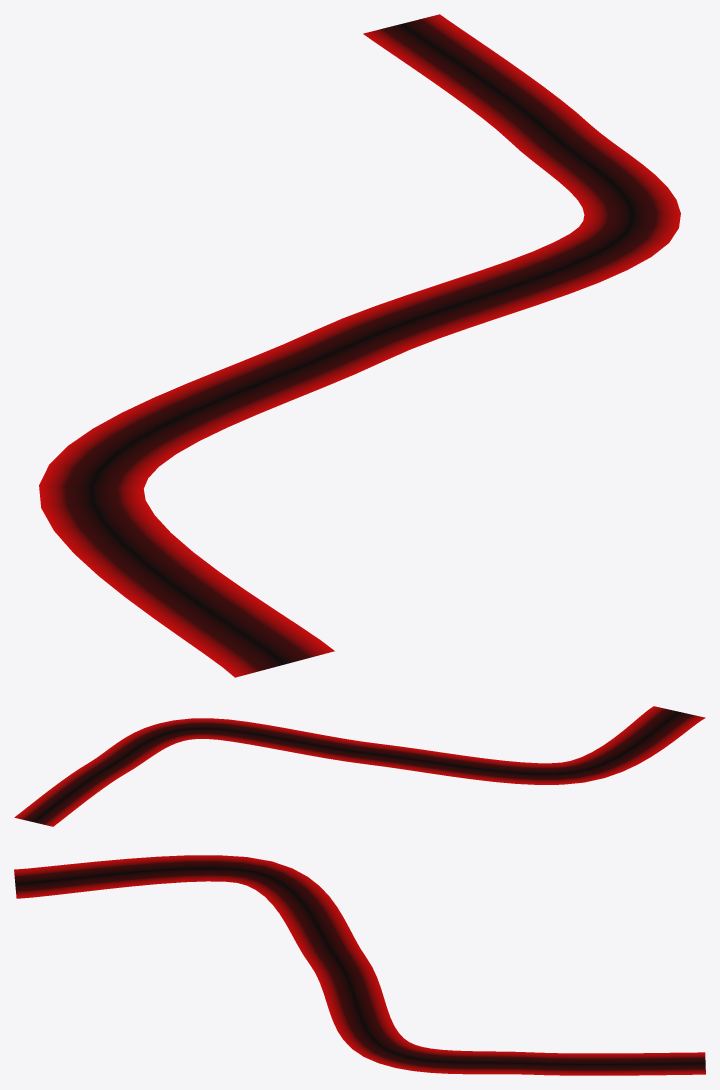
File: CoastalCliff_Entrance_Runoff.fbx
3 renders of one model, top to bottom at view 1: azimuth 30°, elevation 25°; view 2: azimuth 150°, elevation 25°; view 3: azimuth 270°, elevation 25°, orthographic. The views are drawn at different scales.
Parts seen in each view (by area): view 1: CoastalCliff_Entrance_Runoff; view 2: CoastalCliff_Entrance_Runoff; view 3: CoastalCliff_Entrance_Runoff.
Part boxes in pixels (x1=…): CoastalCliff_Entrance_Runoff: x1=39, y1=14, x2=680, y2=677; CoastalCliff_Entrance_Runoff: x1=14, y1=706, x2=705, y2=826; CoastalCliff_Entrance_Runoff: x1=14, y1=855, x2=705, y2=1075.
Bounding box in the file's own units: 7.93 × 0.355 × 9.98.
